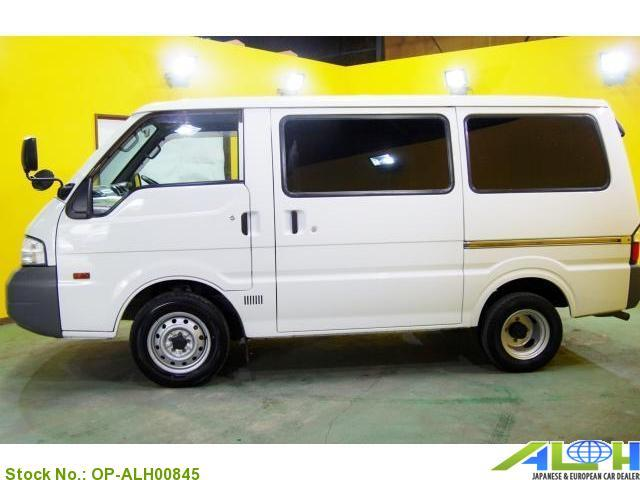van: (9, 90, 640, 371)
